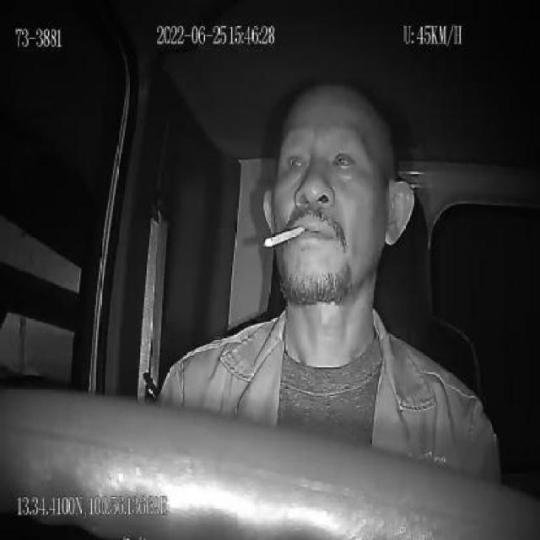smoking: (263, 226, 304, 248)
